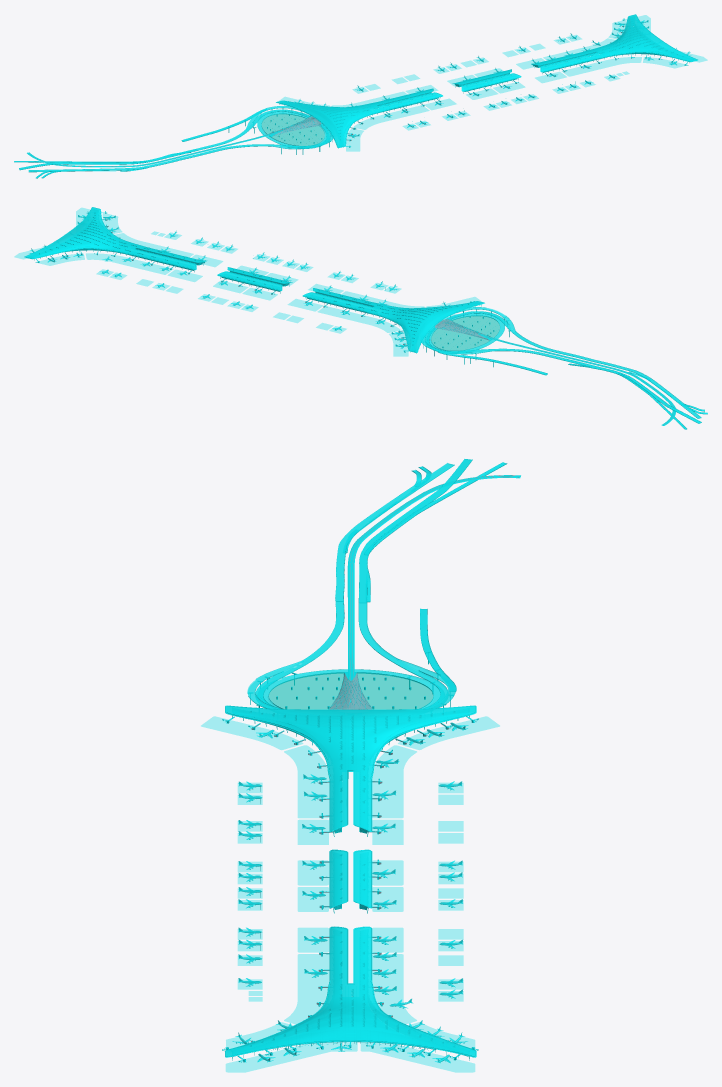
Rendered from modelDraco.gltf.
3 renders of one model, top to bottom at view 1: azimuth 30°, elevation 25°; view 2: azimuth 150°, elevation 25°; view 3: azimuth 270°, elevation 25°, orthographic. The views are drawn at different scales.
Parts seen in each view (by area): view 1: 空白.2; view 2: 空白.2; view 3: 空白.2.
Boxes of the visible parts, x1,y1,x2,y2 form: 空白.2: [14, 14, 707, 178]; 空白.2: [14, 207, 707, 429]; 空白.2: [201, 459, 520, 1072].
Bounding box in the file's own units: 463 × 11.54 × 102.
